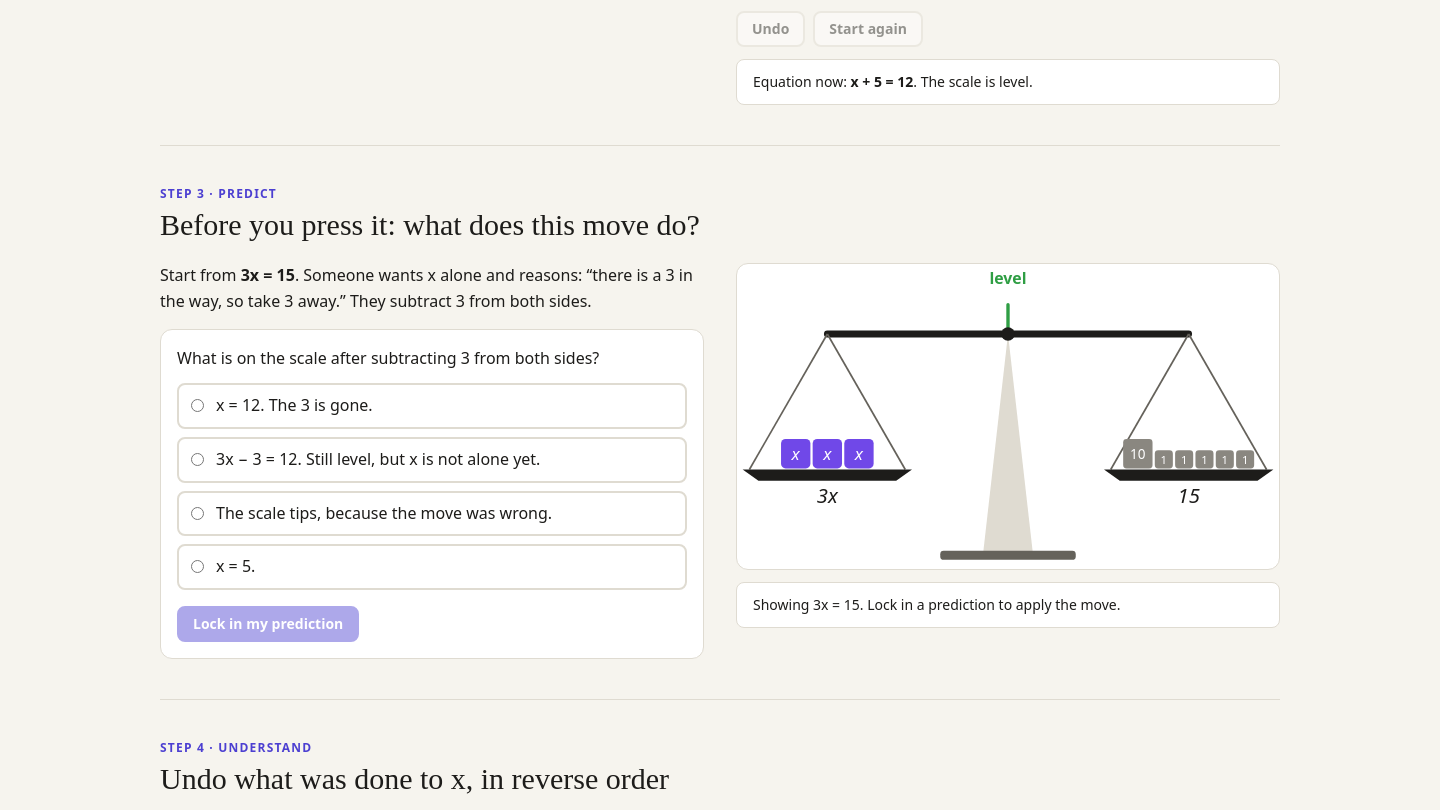
Test case: Variables and equations lesson › reveals the prediction only after locking in
This screenshot has width=1440, height=810.
(page scrolled)
Expected: the picture named "3x = 15" is shown, [736,263,1280,570]
Click the radio button labelled "x = 12. The 3 is gone.". click: (198, 406)
box: [191,399,204,412]
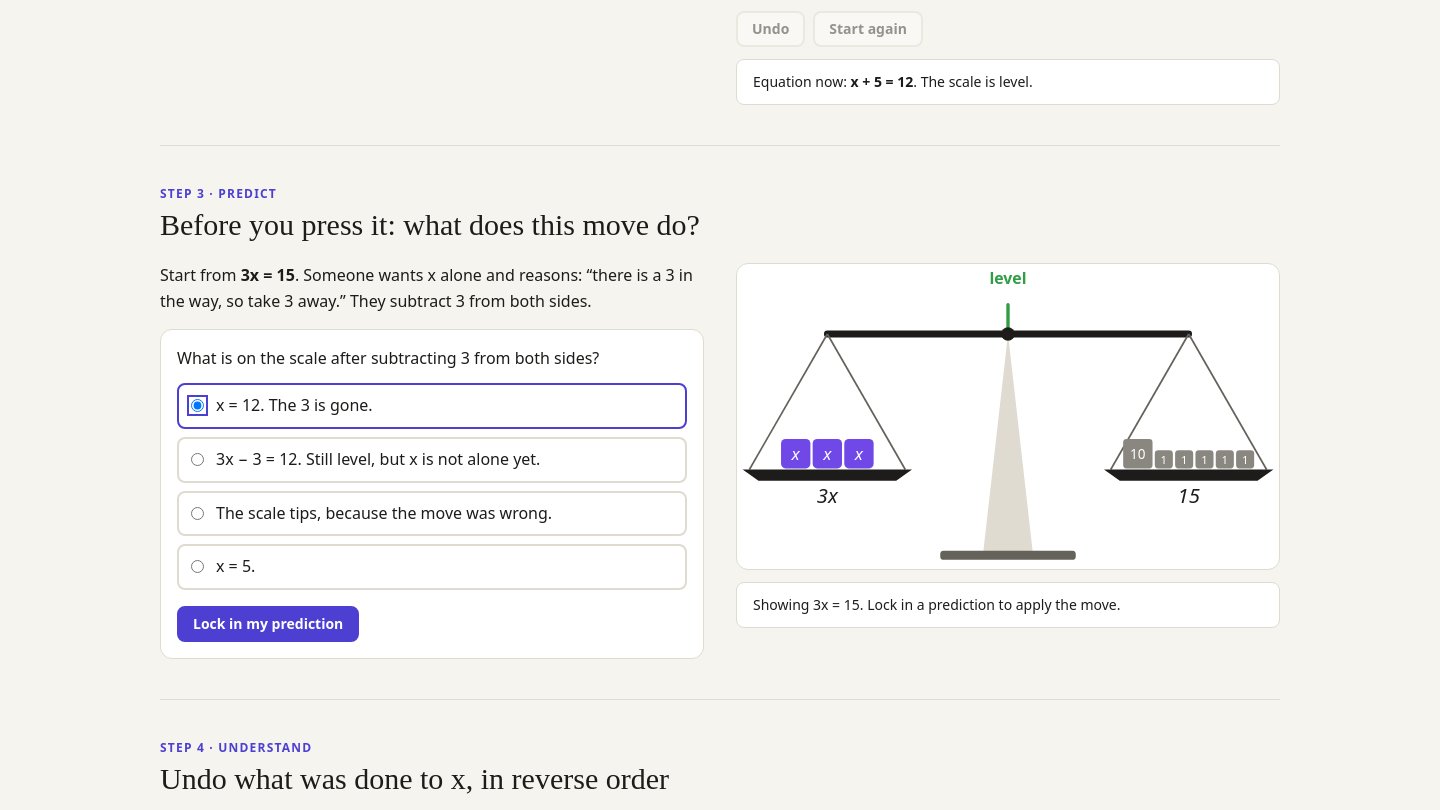
Click the button "Lock in my prediction". click: (268, 624)
box: [177,606,359,642]
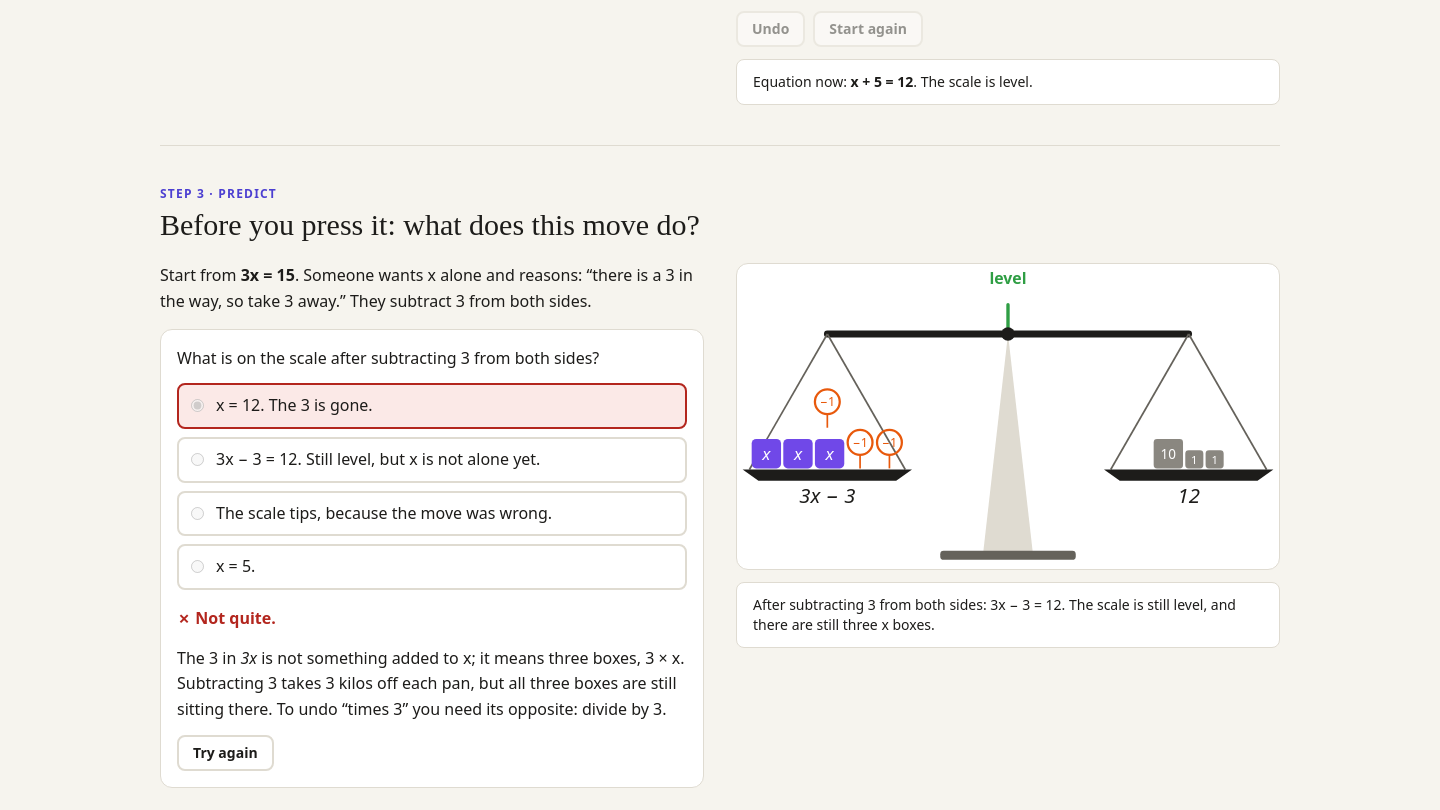
Expected: the picture named "3x − 3 = 12" is shown, [736,263,1280,570]
Now the text "✗ Not quite." is shown, box [177,607,276,629]
